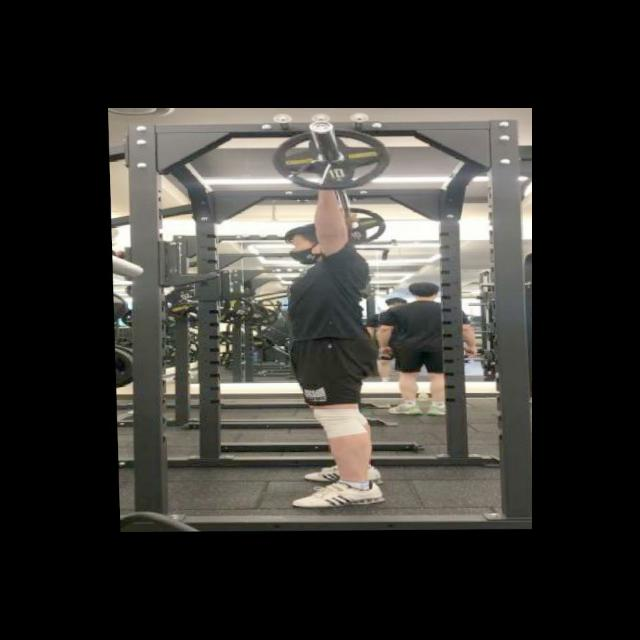barbell: (270, 121, 392, 193)
